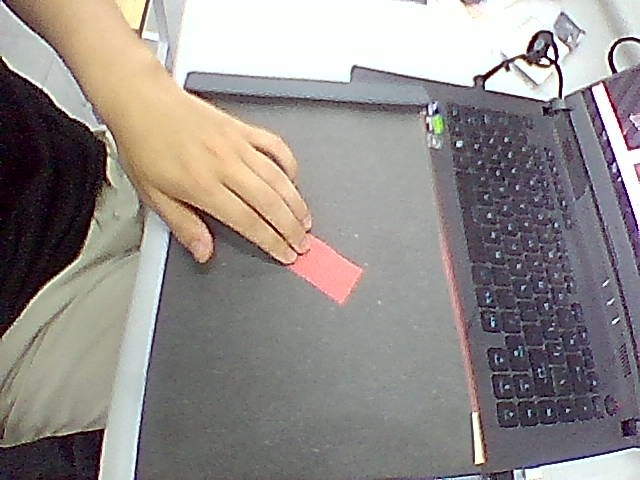card: (288, 236, 362, 304)
